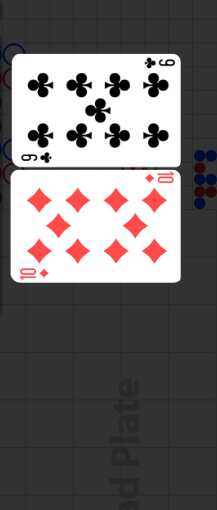10D: (19, 267, 51, 280)
9C: (142, 57, 176, 71)
